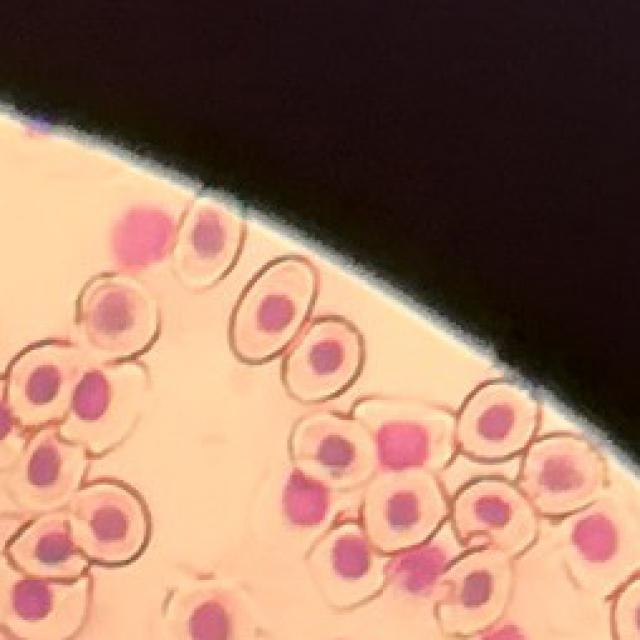RBC: (229, 256, 317, 362), (61, 358, 150, 461), (353, 394, 458, 475), (305, 519, 388, 613), (3, 337, 82, 432), (0, 559, 89, 640), (282, 316, 364, 401), (363, 470, 446, 552), (522, 435, 603, 516), (435, 550, 511, 636), (77, 278, 159, 357), (71, 481, 149, 564), (454, 480, 538, 556), (9, 429, 86, 511), (291, 414, 375, 489), (174, 199, 243, 288), (457, 382, 537, 458), (9, 512, 88, 579)
WBC: (113, 208, 174, 266), (283, 469, 329, 525), (396, 544, 446, 592), (572, 514, 616, 561), (189, 601, 229, 640)
